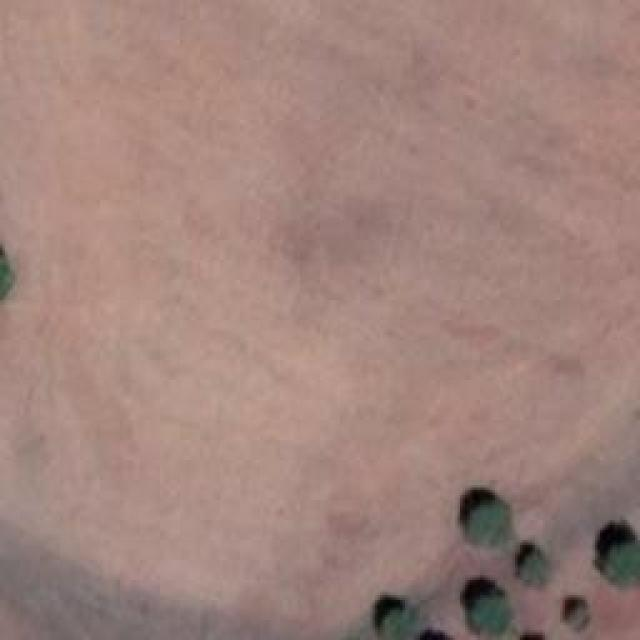Tree: (463, 500, 516, 545), (469, 587, 512, 640), (605, 540, 640, 588), (518, 550, 551, 593), (379, 607, 412, 640), (563, 600, 588, 628)
